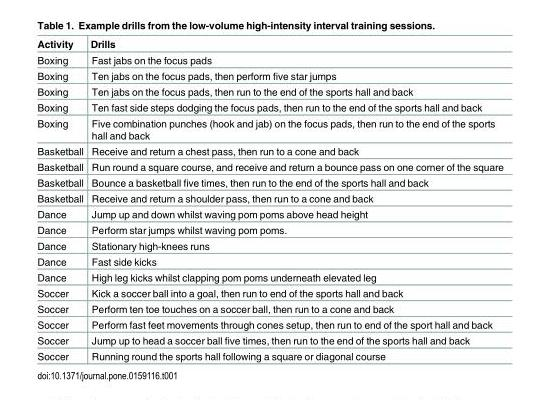table: (36, 37, 502, 361)
table column: (86, 37, 502, 361), (36, 37, 86, 361)
table column header: (36, 37, 502, 51)
table row: (36, 114, 502, 142), (36, 51, 502, 67), (36, 67, 502, 83), (36, 83, 502, 99), (36, 142, 502, 158), (36, 158, 502, 174), (36, 174, 502, 190), (36, 205, 502, 221), (36, 221, 502, 237), (36, 237, 502, 253), (36, 268, 502, 284), (36, 284, 502, 300), (36, 300, 502, 316), (36, 316, 502, 332), (36, 99, 502, 114), (36, 190, 502, 205), (36, 253, 502, 268), (36, 332, 502, 347), (36, 37, 502, 51), (36, 347, 502, 361)
